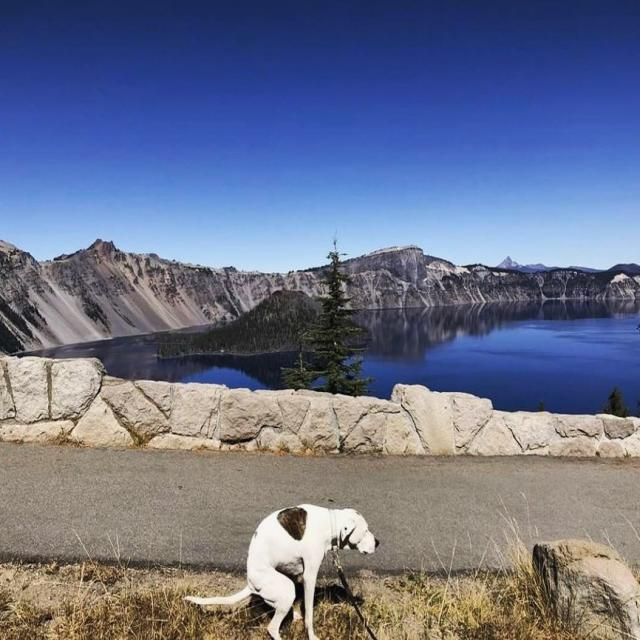squatting: (180, 474, 384, 640)
